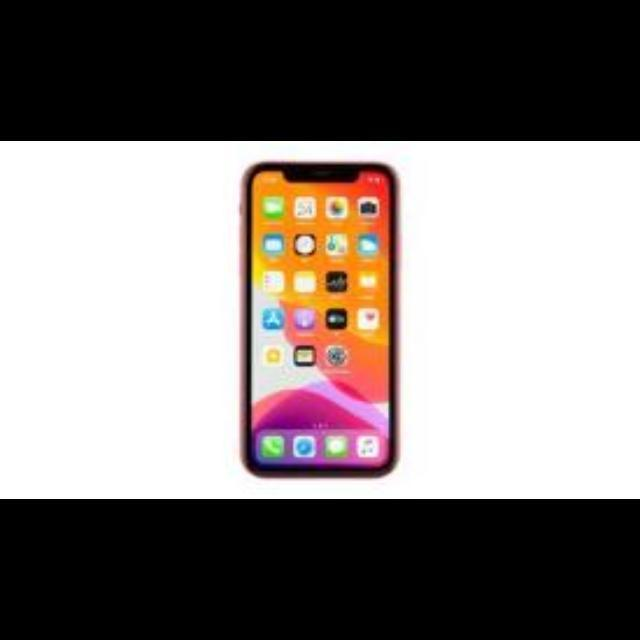PhoneUse: (238, 158, 400, 478)
